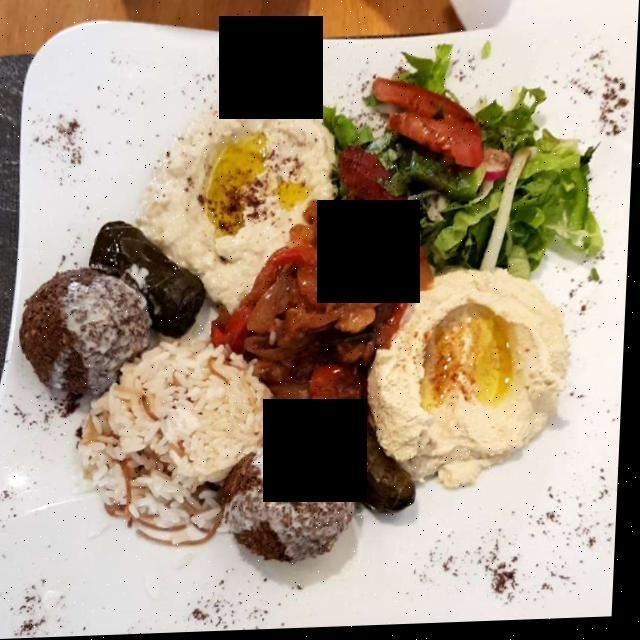bell-pepper: (208, 163, 428, 422)
falafel-balls: (26, 266, 350, 565)
hummus: (138, 87, 571, 507)
rice: (79, 317, 291, 537)
salad: (334, 70, 597, 294)
